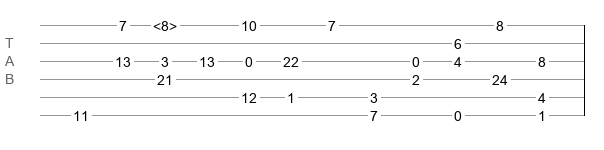0: (245, 54, 253, 64), (412, 54, 420, 64), (454, 108, 462, 118)
1: (287, 90, 295, 100), (538, 108, 546, 118)
10: (241, 18, 257, 28)
11: (73, 108, 89, 118)
12: (241, 90, 257, 100)
13: (115, 54, 131, 64), (199, 54, 215, 64)
2: (412, 72, 420, 82)
21: (157, 72, 173, 82)
22: (283, 54, 299, 64)
24: (492, 72, 508, 82)
3: (161, 54, 169, 64), (370, 90, 378, 100)
4: (454, 54, 462, 64), (538, 90, 546, 100)
6: (454, 36, 462, 46)
7: (119, 18, 127, 28), (328, 18, 336, 28), (370, 108, 378, 118)
8: (496, 18, 504, 28), (538, 54, 546, 64)
harmonic: (153, 18, 177, 28)
